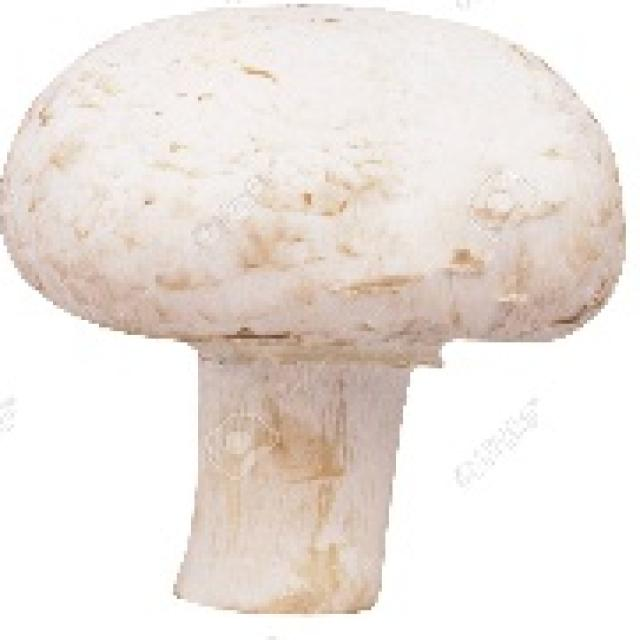mushroom: (0, 0, 629, 629)
